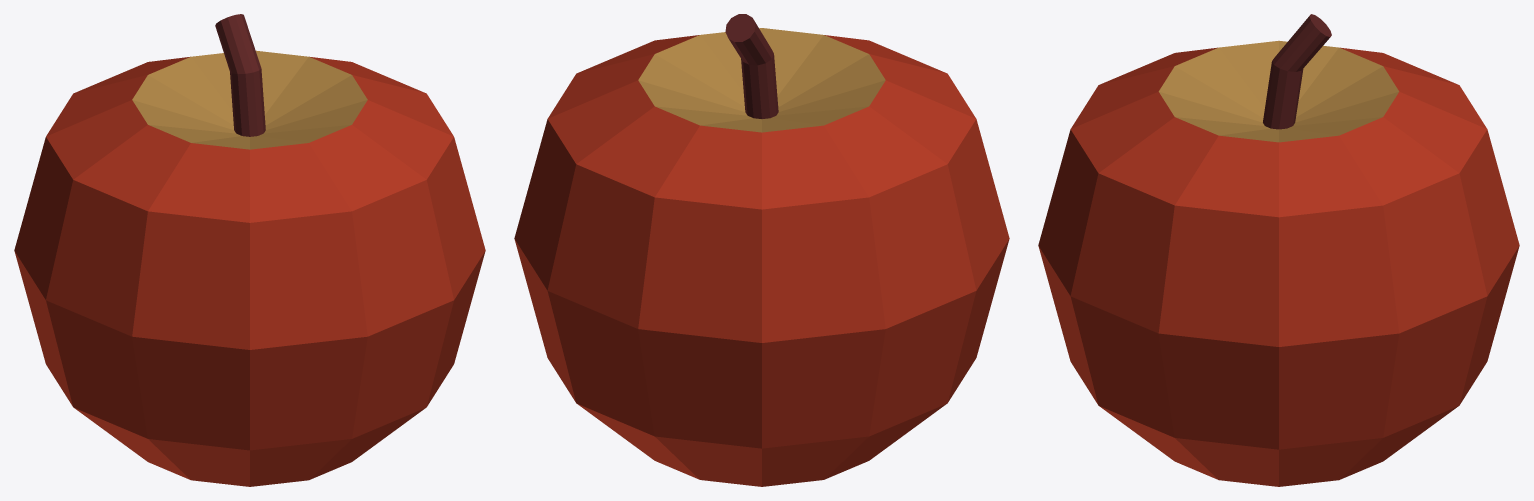
File: apple.glb
The picture shows the model from 3 angles, left to right: view 1: azimuth 30°, elevation 25°; view 2: azimuth 150°, elevation 25°; view 3: azimuth 270°, elevation 25°; orthographic projection. The views are drawn at different scales.
Parts seen in each view (by area): view 1: Sphere; view 2: Sphere; view 3: Sphere.
Part boxes in pixels (x1,y1,x2,y2): Sphere: [14, 14, 485, 486]; Sphere: [514, 14, 1009, 486]; Sphere: [1038, 14, 1519, 486].
Size of the model in its own units: 0.75 by 0.75 by 0.75.
